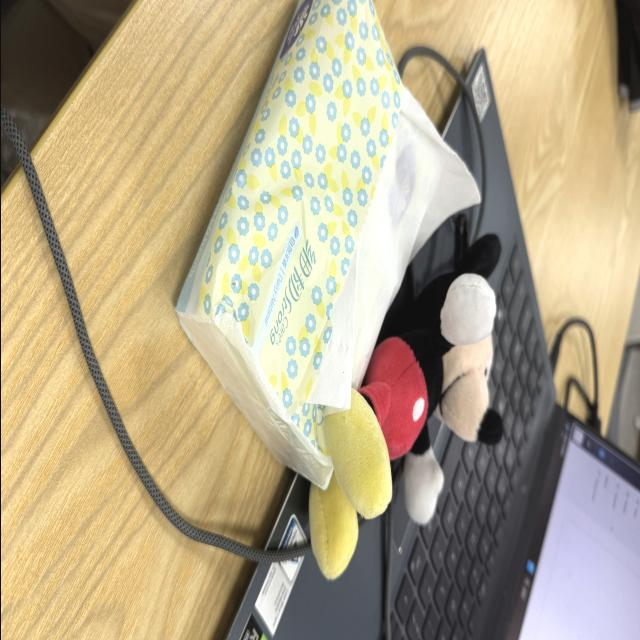mickey: (309, 235, 501, 579)
tissue: (176, 0, 480, 488)
